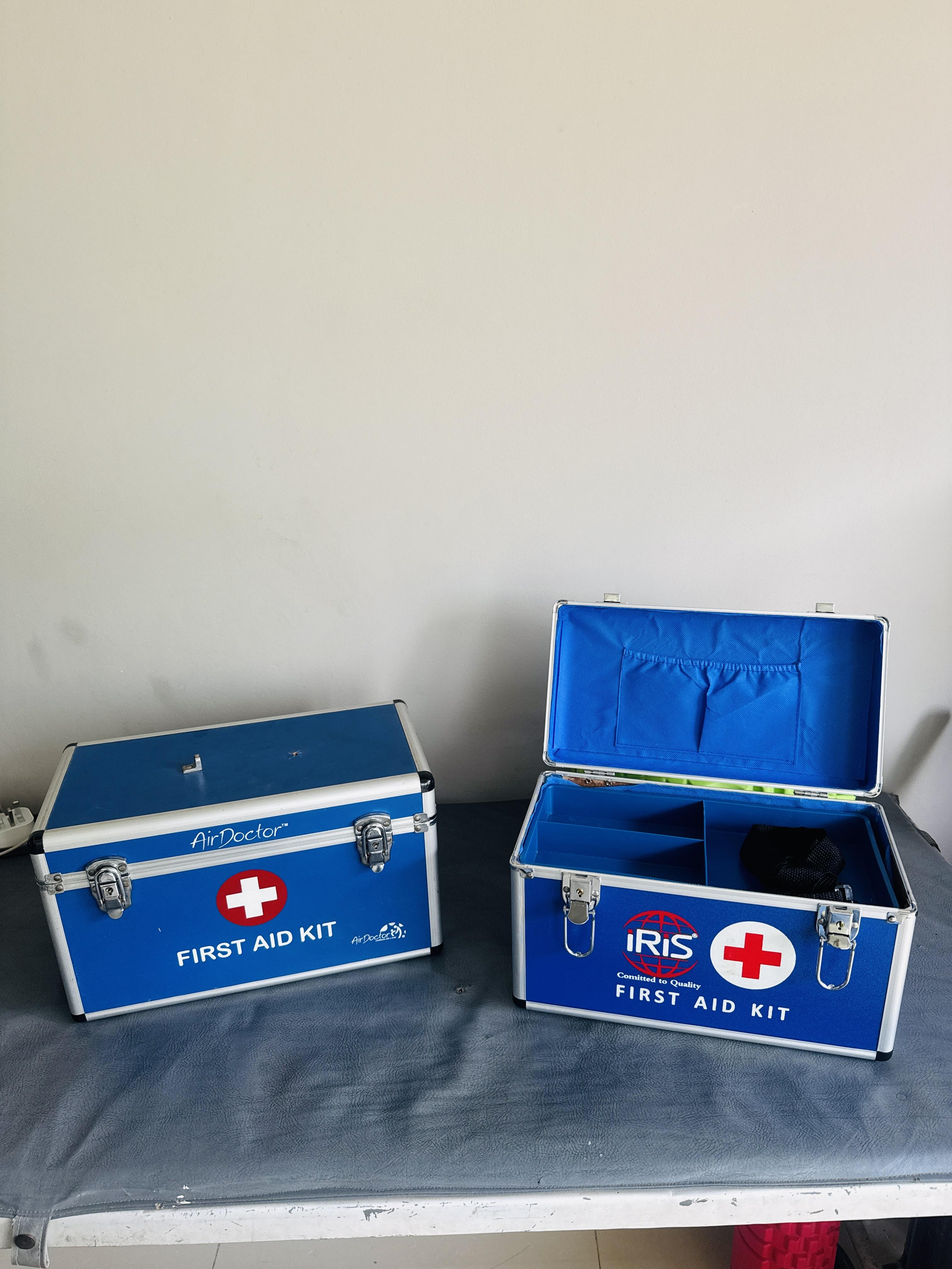FirstAidBox: (496, 528, 932, 1078), (14, 681, 455, 1053)
